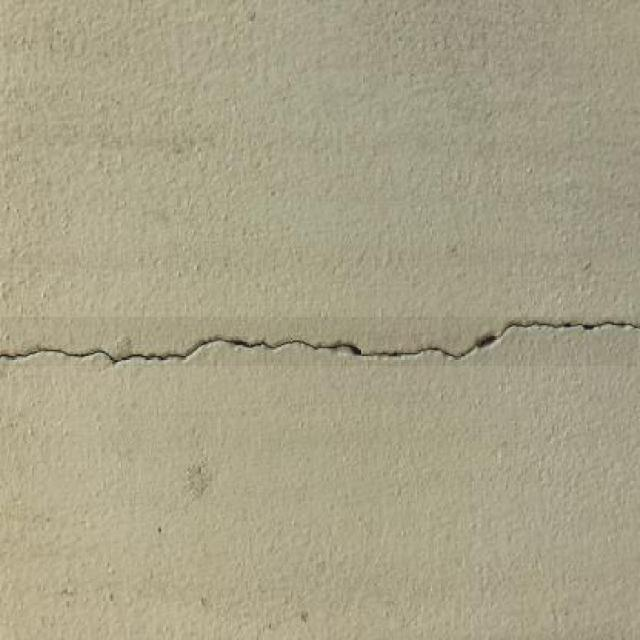Crack: (0, 316, 639, 367)
